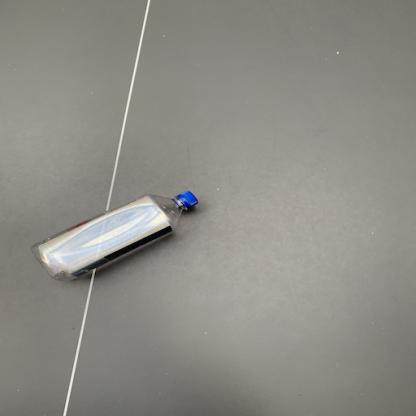trash: (32, 190, 199, 283)
